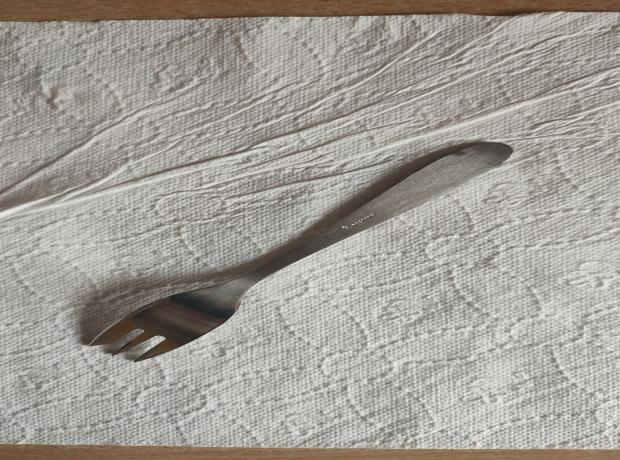metal: (87, 141, 516, 363)
